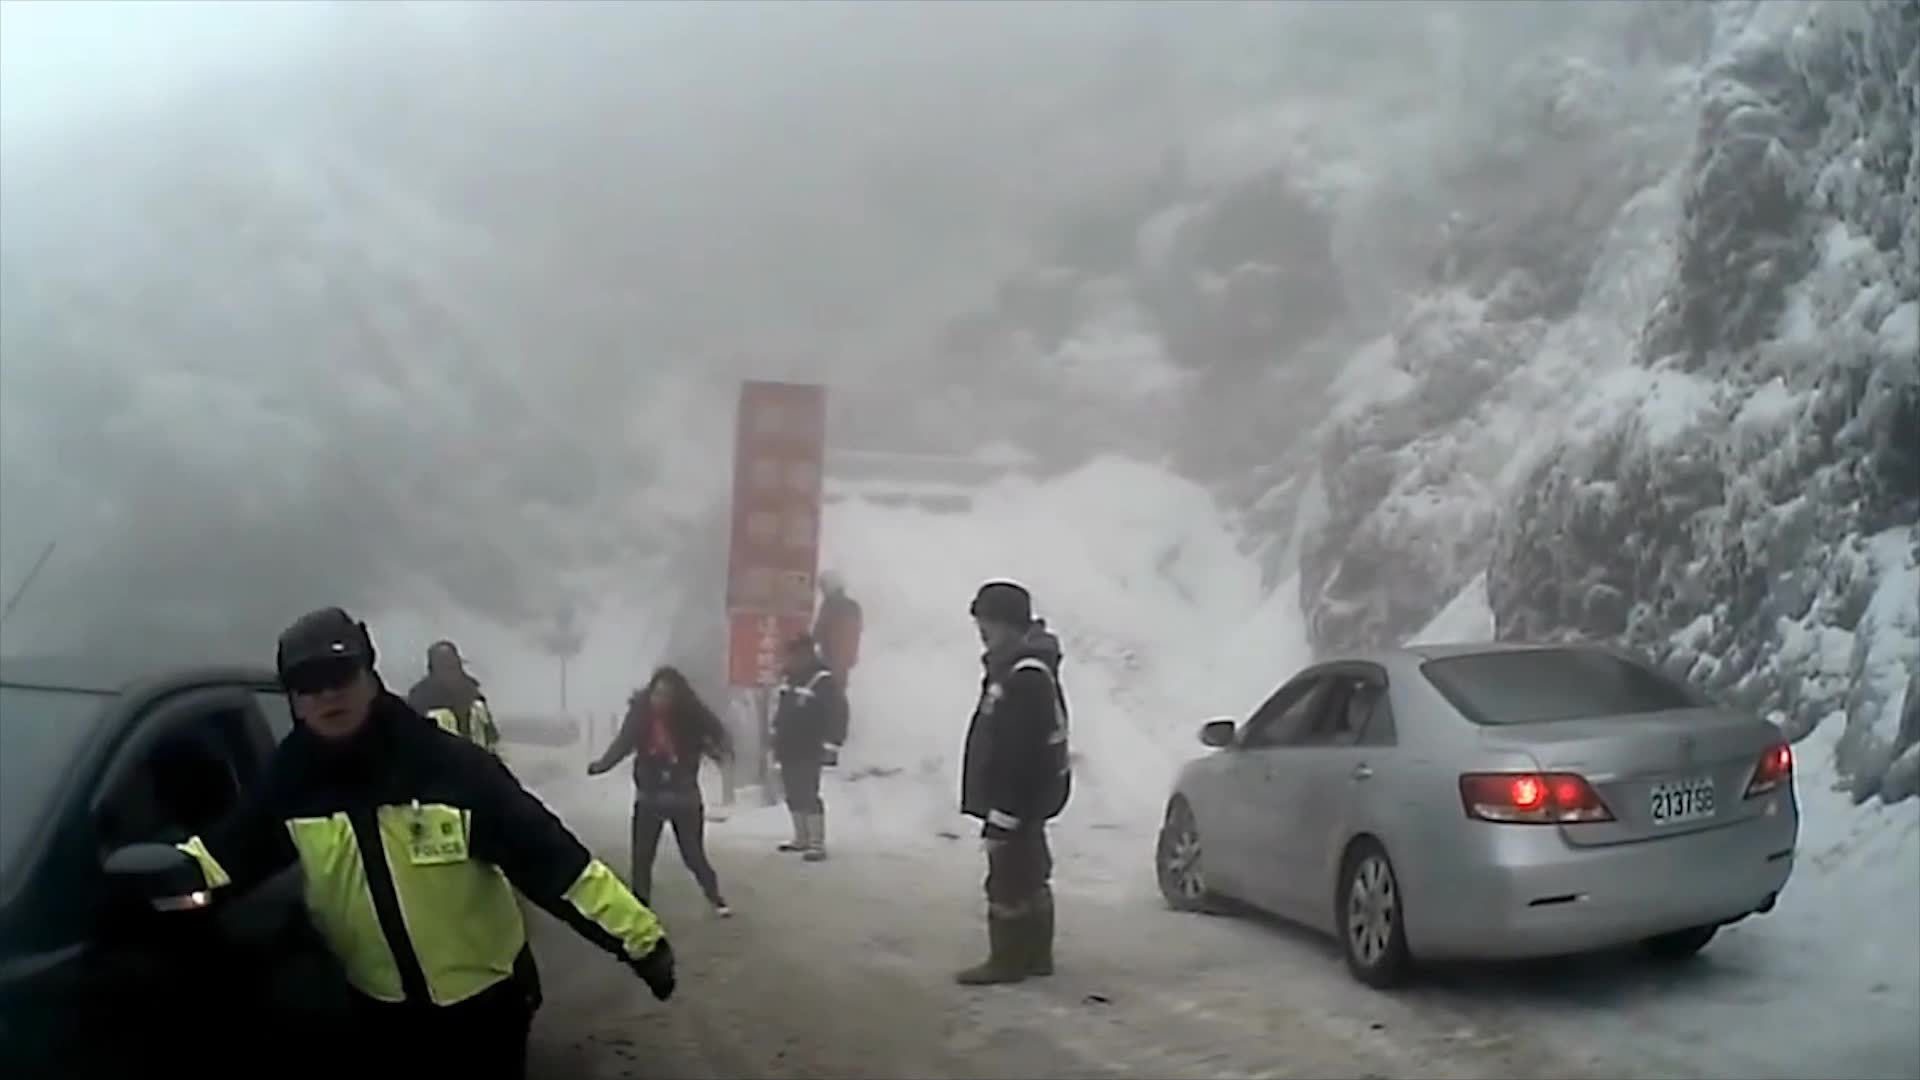pedestrian: (131, 603, 666, 1080), (946, 585, 1077, 985), (583, 671, 740, 936), (393, 643, 515, 928), (768, 640, 850, 864), (813, 566, 873, 757)
vehicle: (1155, 637, 1800, 988), (0, 655, 508, 1079)
